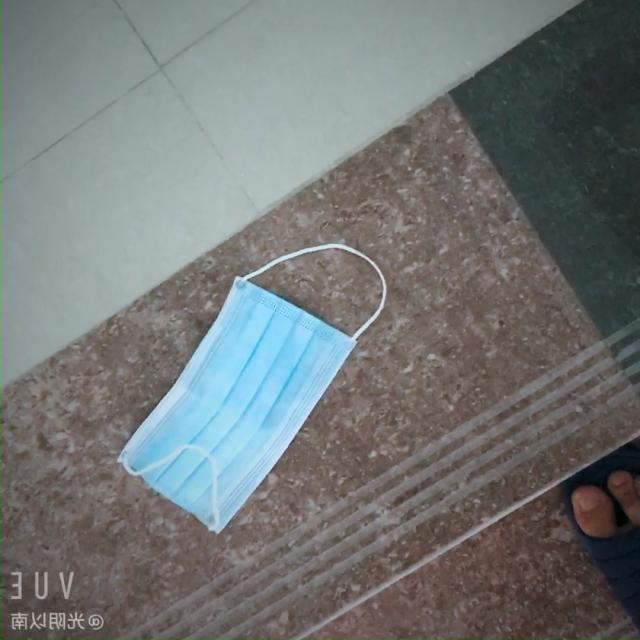face mask: (118, 278, 373, 534)
